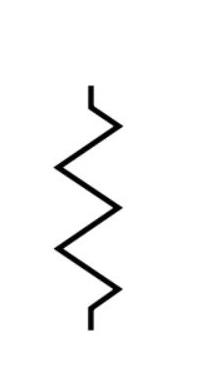resistor: (44, 76, 136, 320)
